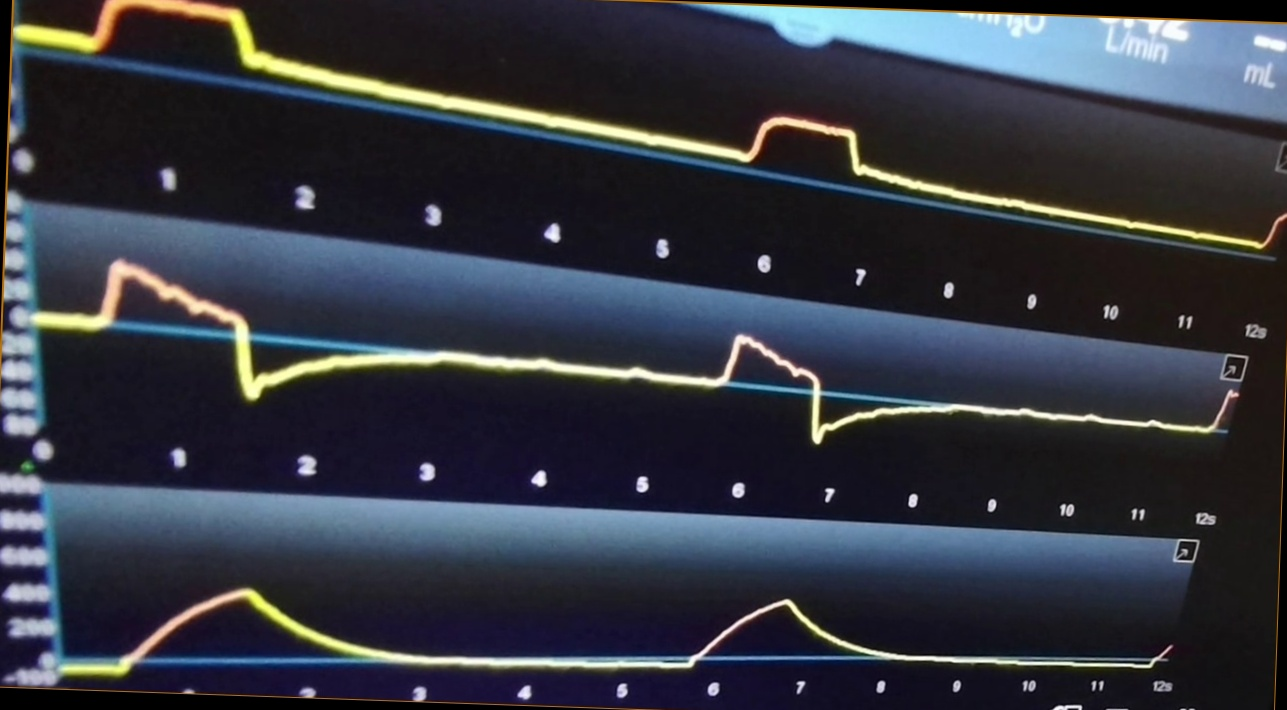Accumulation Flow: (49, 259, 1234, 446)
Volume: (63, 571, 1184, 677)
